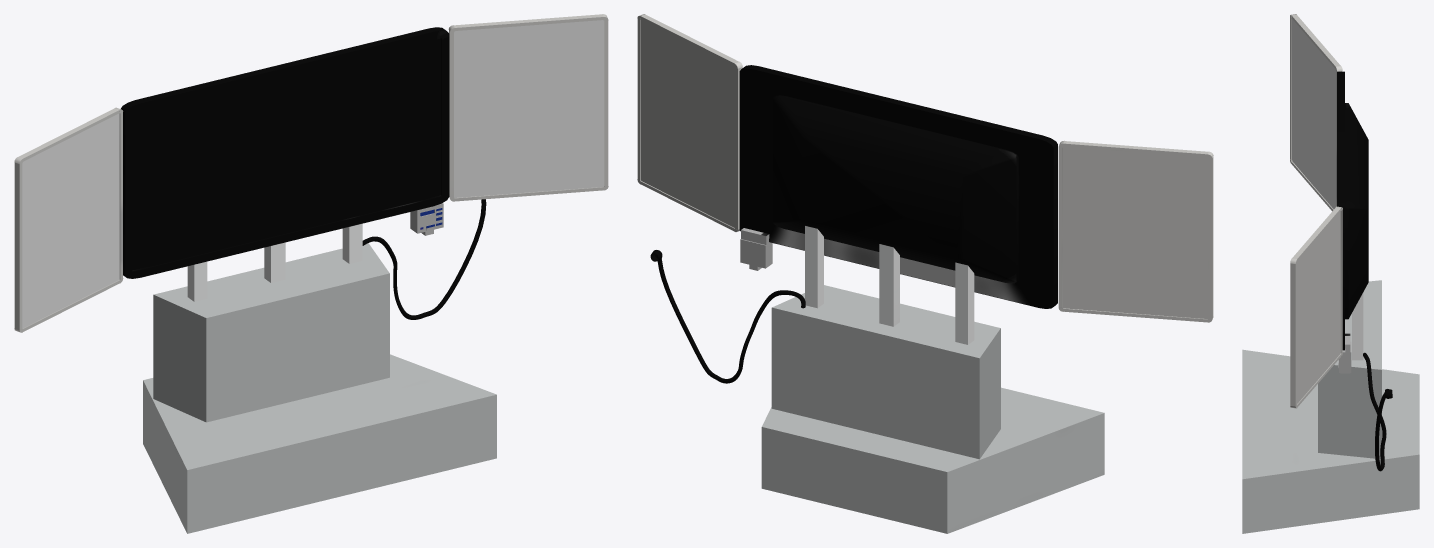
The model's file is bord_met_textures_voor_export.fbx.
The picture shows the model from 3 angles, left to right: view 1: azimuth 30°, elevation 25°; view 2: azimuth 150°, elevation 25°; view 3: azimuth 270°, elevation 25°; orthographic projection. The views are drawn at different scales.
Parts seen in each view (by area): view 1: stant.001, board 1.003, board 2.001, NurbsPath.001; view 2: stant.001, board 1.003, board 2.001, NurbsPath.001; view 3: stant.001, board 2.001, board 1.003, NurbsPath.001.
Part boxes in pixels (left/top/right/bottom): stant.001: left=143, top=223, right=496, bottom=533; board 1.003: left=121, top=27, right=449, bottom=278; board 2.001: left=14, top=14, right=608, bottom=332; NurbsPath.001: left=362, top=199, right=486, bottom=319; stant.001: left=761, top=226, right=1104, bottom=533; board 1.003: left=739, top=65, right=1057, bottom=308; board 2.001: left=637, top=14, right=1213, bottom=322; NurbsPath.001: left=650, top=250, right=805, bottom=383; stant.001: left=1242, top=280, right=1419, bottom=533; board 2.001: left=1290, top=14, right=1342, bottom=408; board 1.003: left=1337, top=71, right=1368, bottom=373; NurbsPath.001: left=1363, top=352, right=1392, bottom=471.
Size of the model in its own units: 144 by 90.27 by 43.52.
9 materials, 8 textured.
